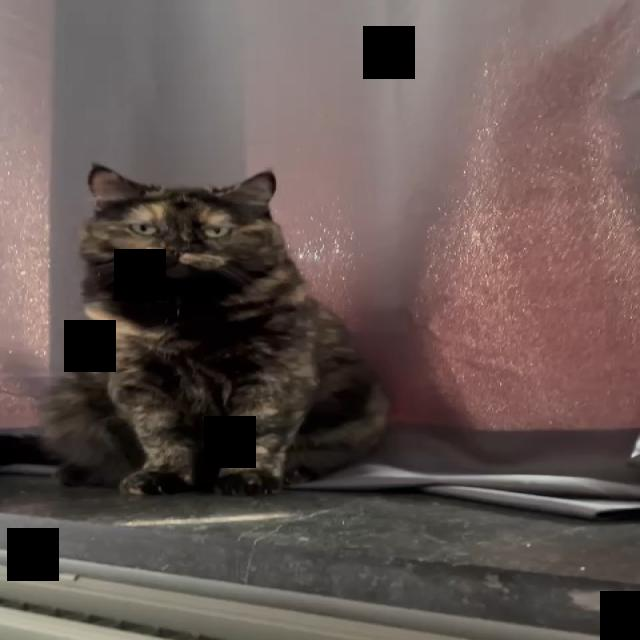authorized: (37, 162, 391, 496)
